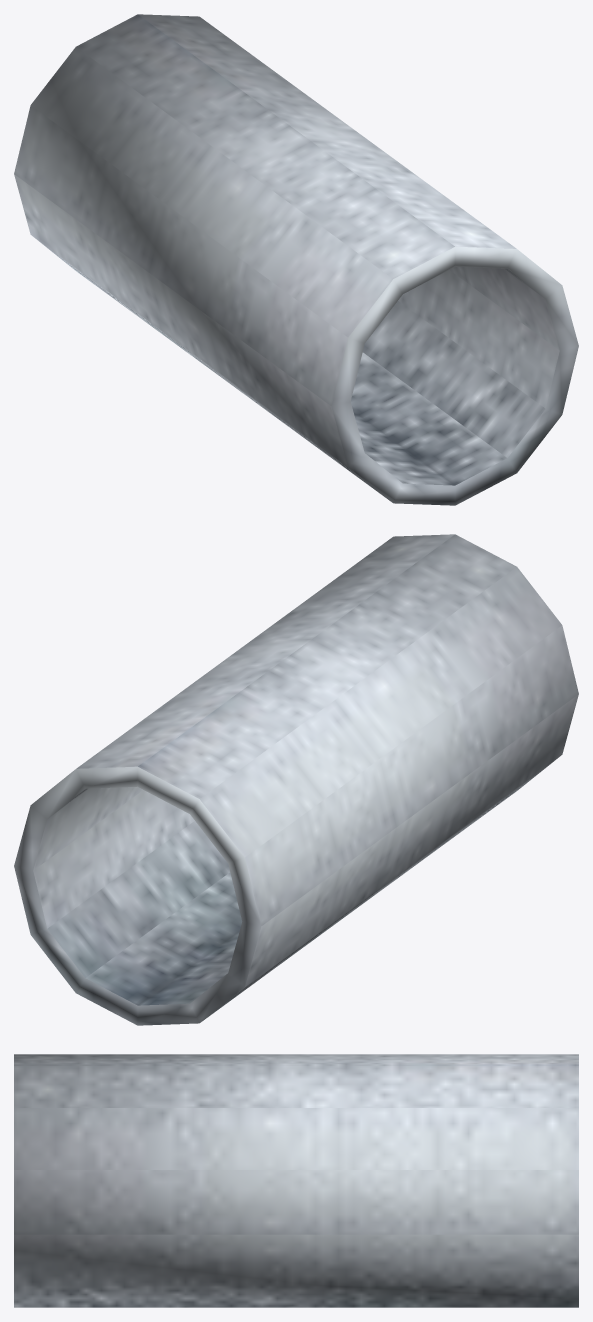
File: psx_industrial_pack_concrete_pipe.glb
3 renders of one model, top to bottom at view 1: azimuth 30°, elevation 25°; view 2: azimuth 150°, elevation 25°; view 3: azimuth 270°, elevation 25°, orthographic. The views are drawn at different scales.
Visible parts, largest first — view 1: ConcretePipe; view 2: ConcretePipe; view 3: ConcretePipe.
Part boxes in pixels (<box>): ConcretePipe: <box>14,14,578,505</box>; ConcretePipe: <box>14,534,578,1025</box>; ConcretePipe: <box>14,1054,578,1307</box>.
Size of the model in its own units: 0.9 by 0.9 by 2.
1 material, 1 textured.
